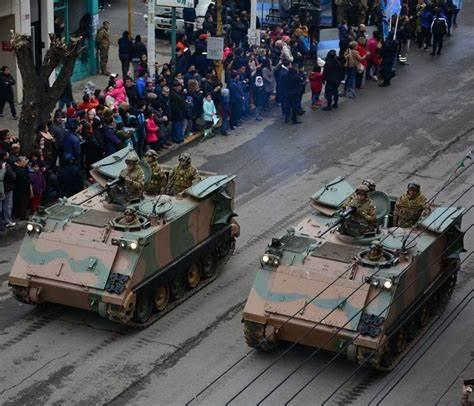armored_car: (240, 181, 468, 374), (7, 149, 240, 327)
